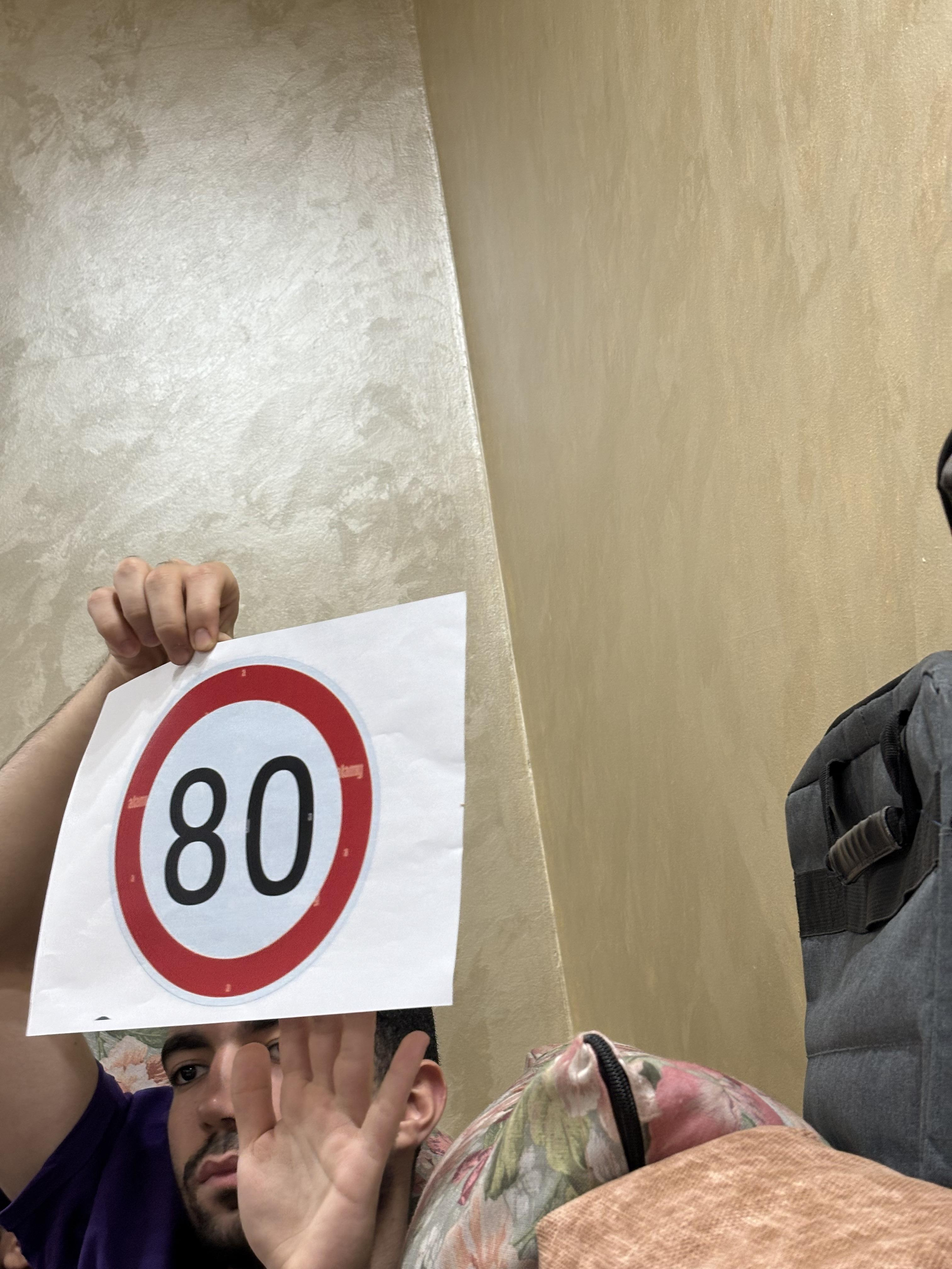80-Speed: (114, 671, 377, 1001)
